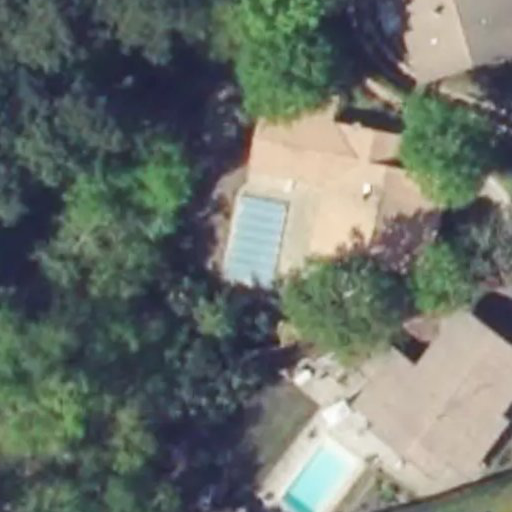pool: (226, 195, 291, 291), (285, 444, 351, 512)
